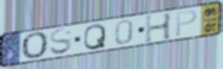0: (114, 18, 135, 46)
H: (144, 11, 174, 45)
O: (20, 31, 50, 61)
P: (175, 8, 200, 38)
Q: (82, 23, 107, 51)
S: (49, 27, 74, 56)
